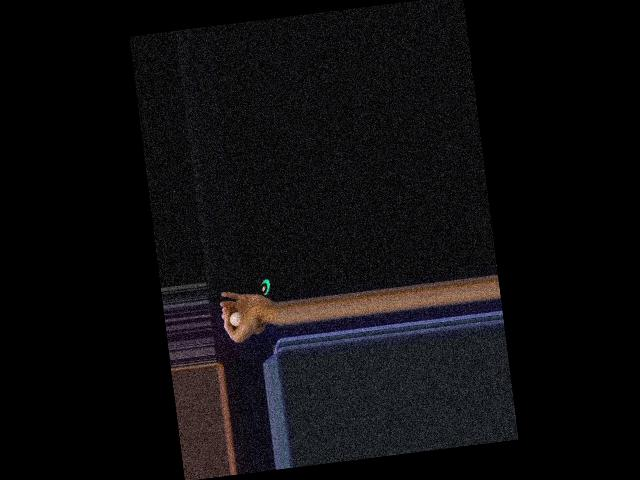egg: (228, 311, 241, 327)
